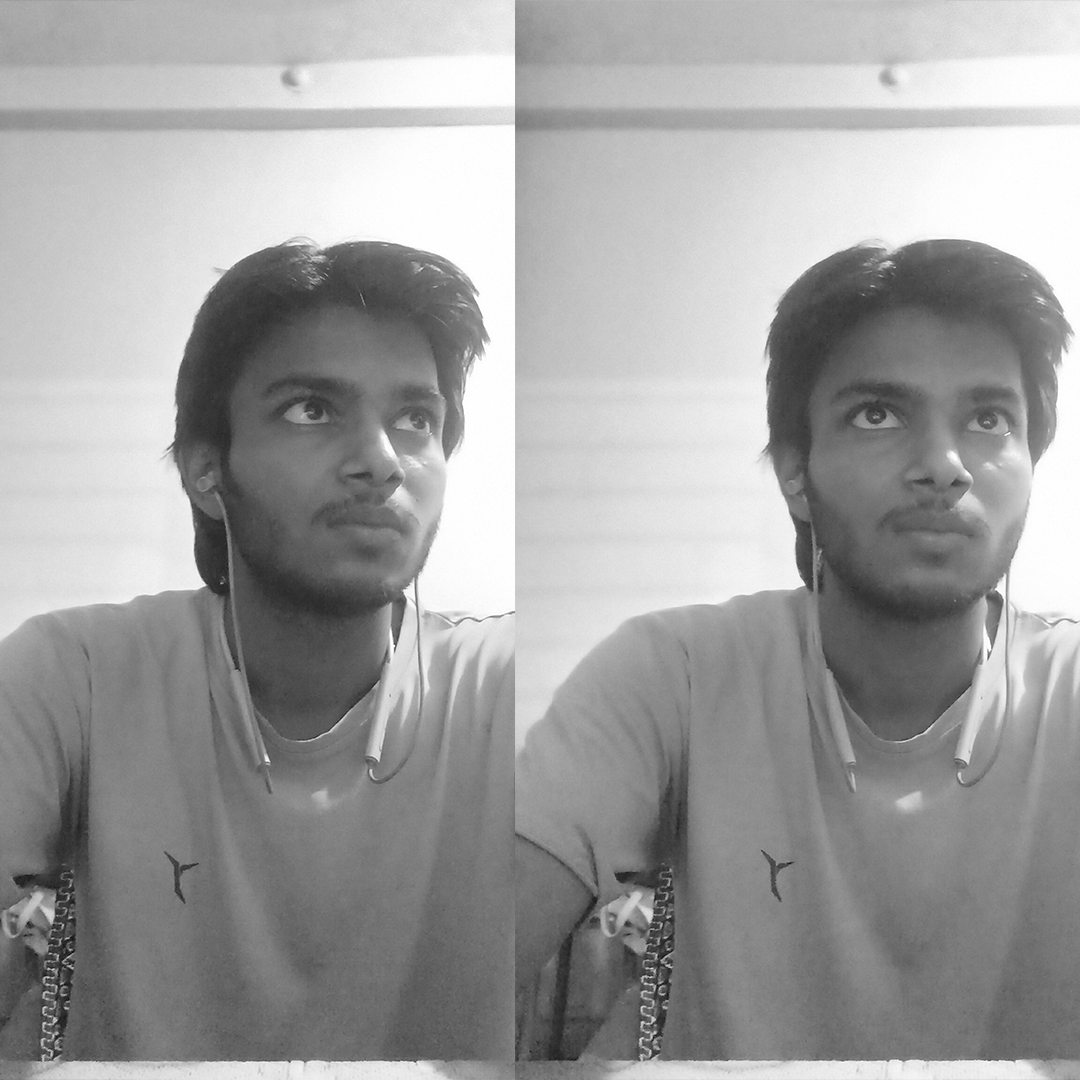Focused: (723, 179, 1078, 665)
distracted: (178, 180, 485, 670)
